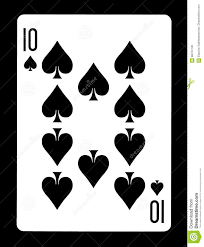ten of spades: (17, 13, 171, 231)
